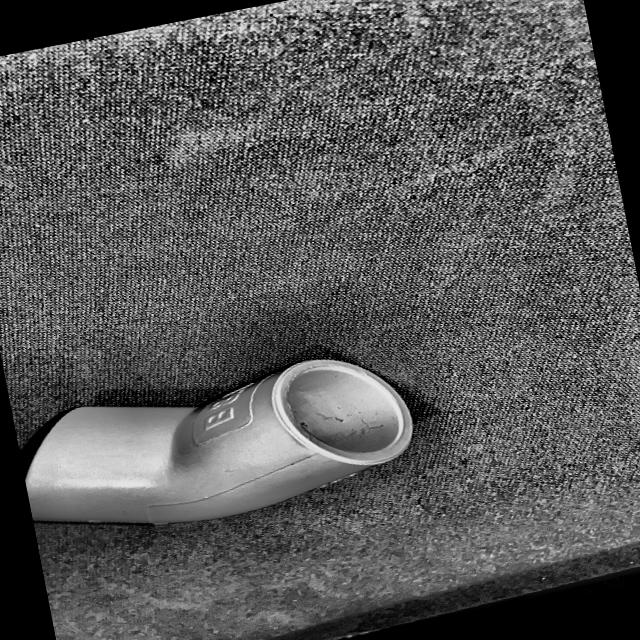ELBOW45: (20, 356, 413, 523)
